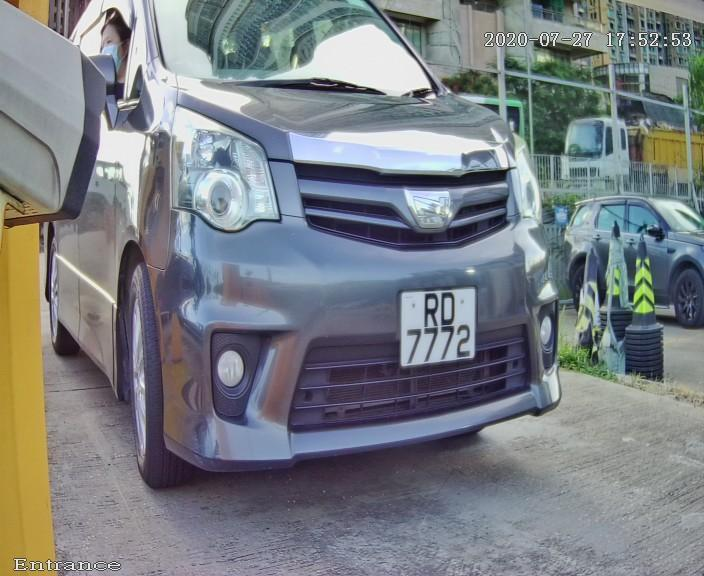privatecar: (45, 31, 607, 492)
